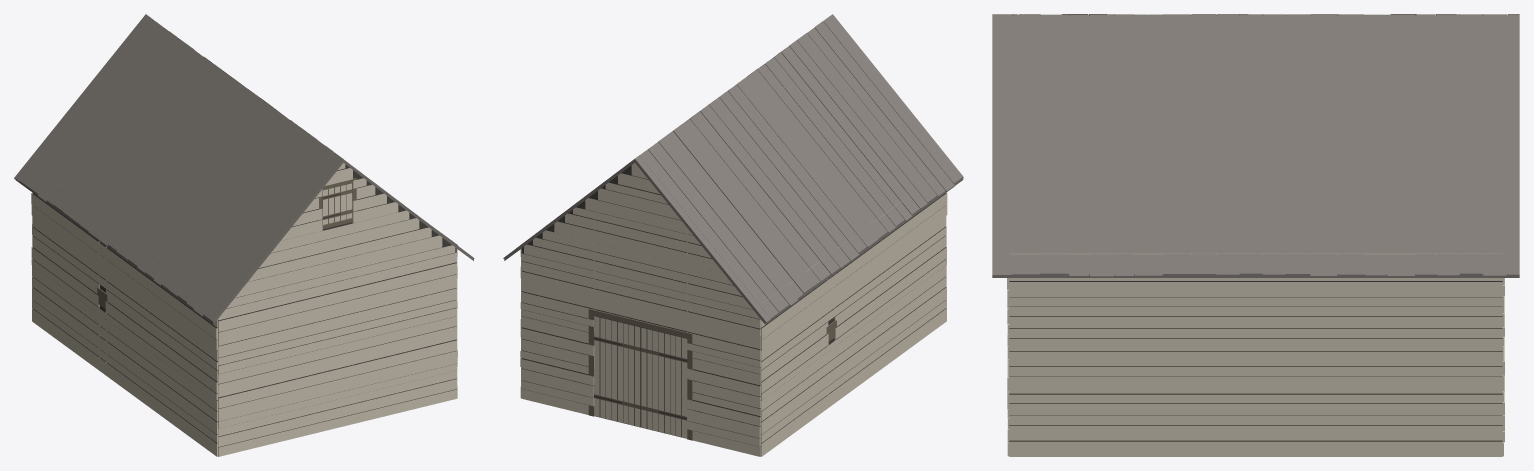
Rendered from recon_1835_north_a2_059__inferred_1835.glb.
3 views of the same model, side by side, from view 1: azimuth 30°, elevation 25°; view 2: azimuth 150°, elevation 25°; view 3: azimuth 270°, elevation 25° (orthographic). The views are drawn at different scales.
Visible parts, largest first — view 1: recon_1835_north_a2_059__inferred_1835; view 2: recon_1835_north_a2_059__inferred_1835; view 3: recon_1835_north_a2_059__inferred_1835.
Part boxes in pixels (x1,y1,x2,y2): recon_1835_north_a2_059__inferred_1835: (14,14,474,456); recon_1835_north_a2_059__inferred_1835: (503,14,963,456); recon_1835_north_a2_059__inferred_1835: (992,14,1519,456).
Size of the model in its own units: 8.21 by 8.13 by 10.66.
